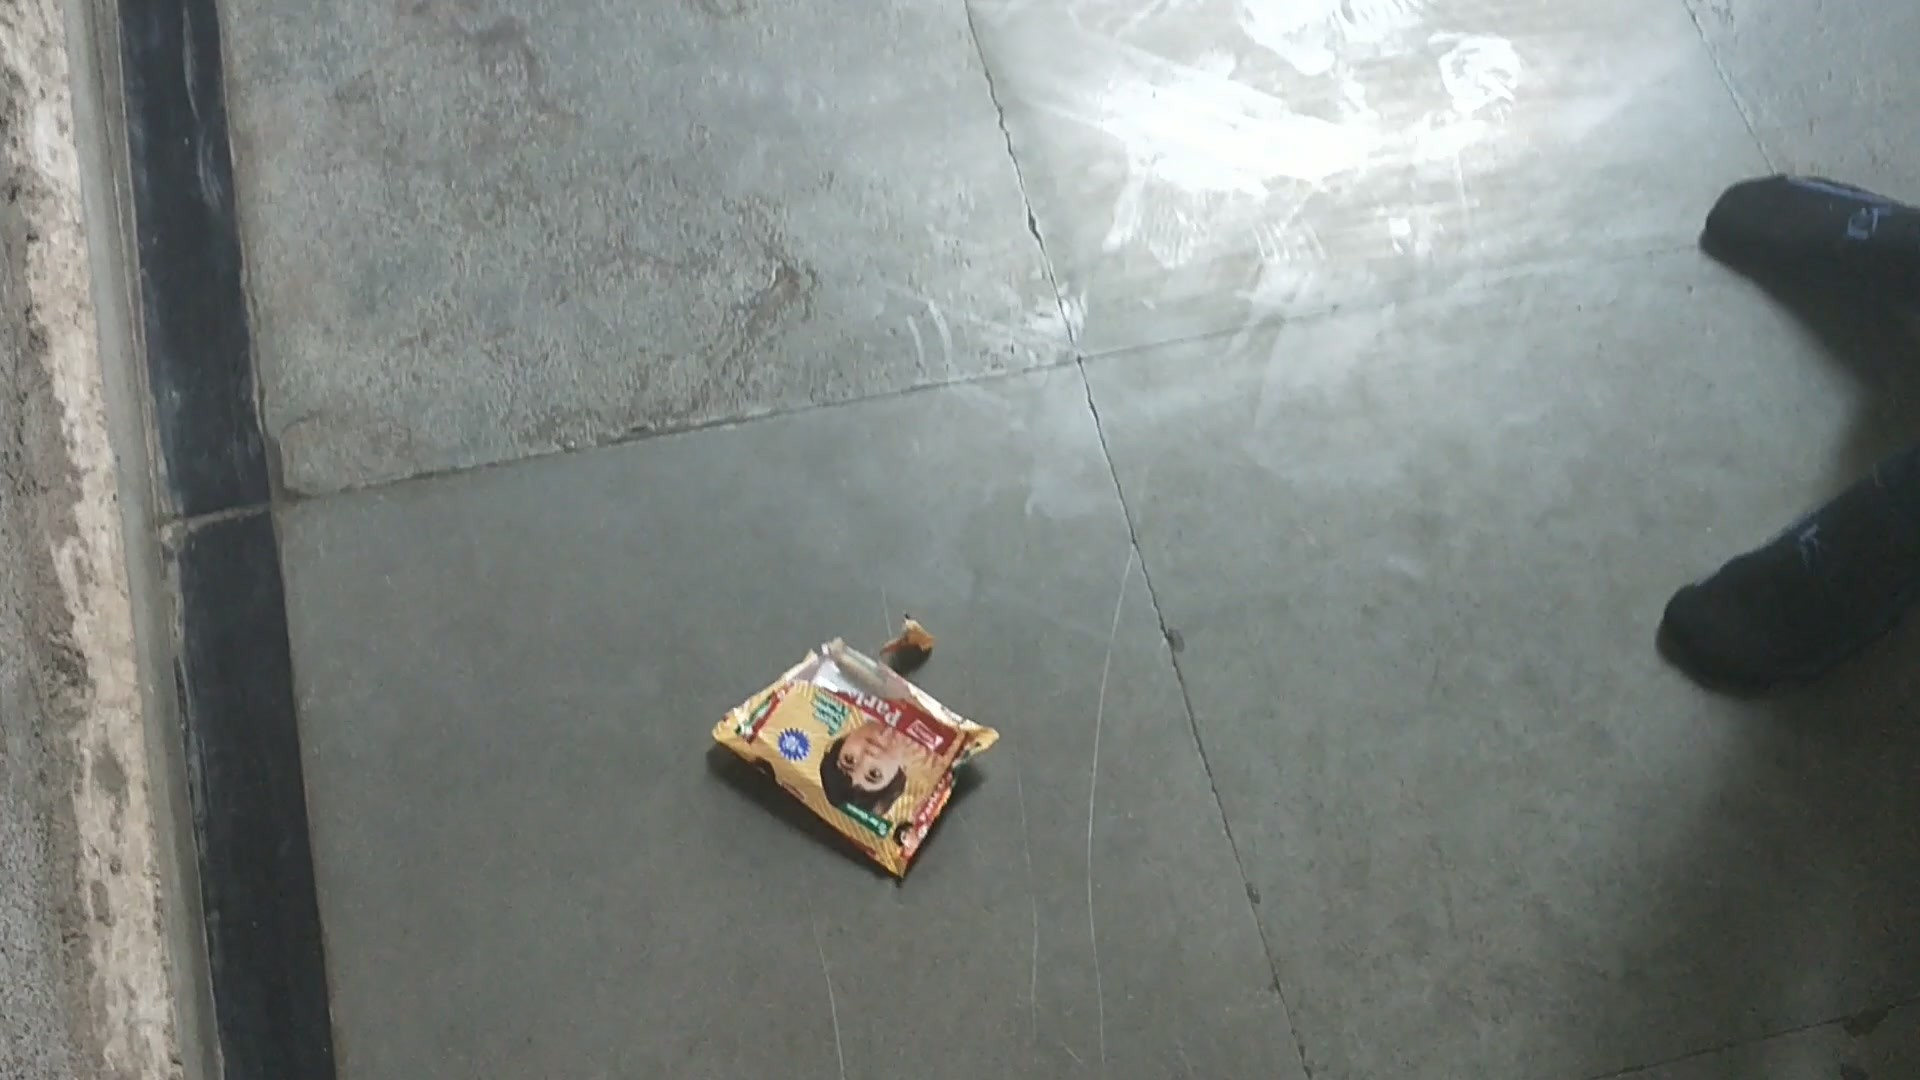parle-g: (793, 674, 928, 814)
